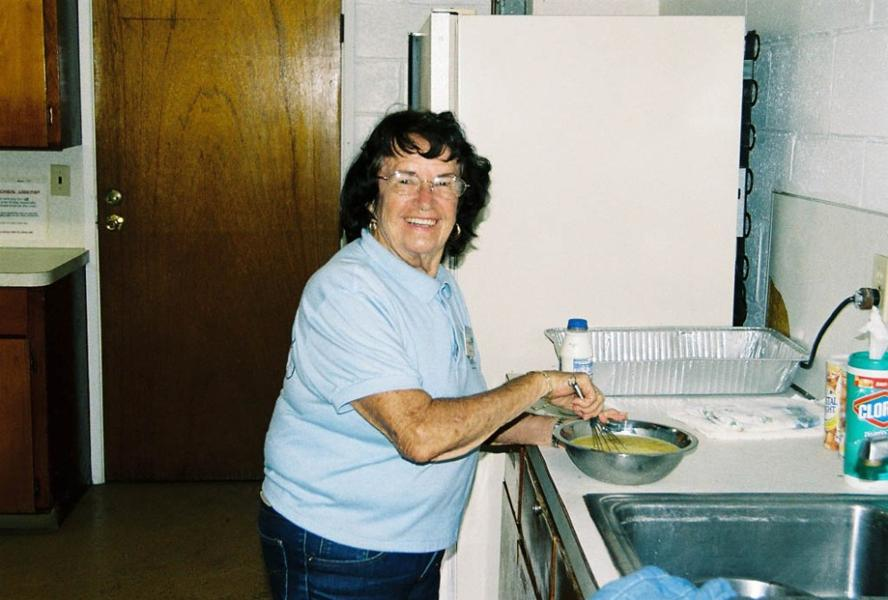person: (249, 108, 628, 600)
